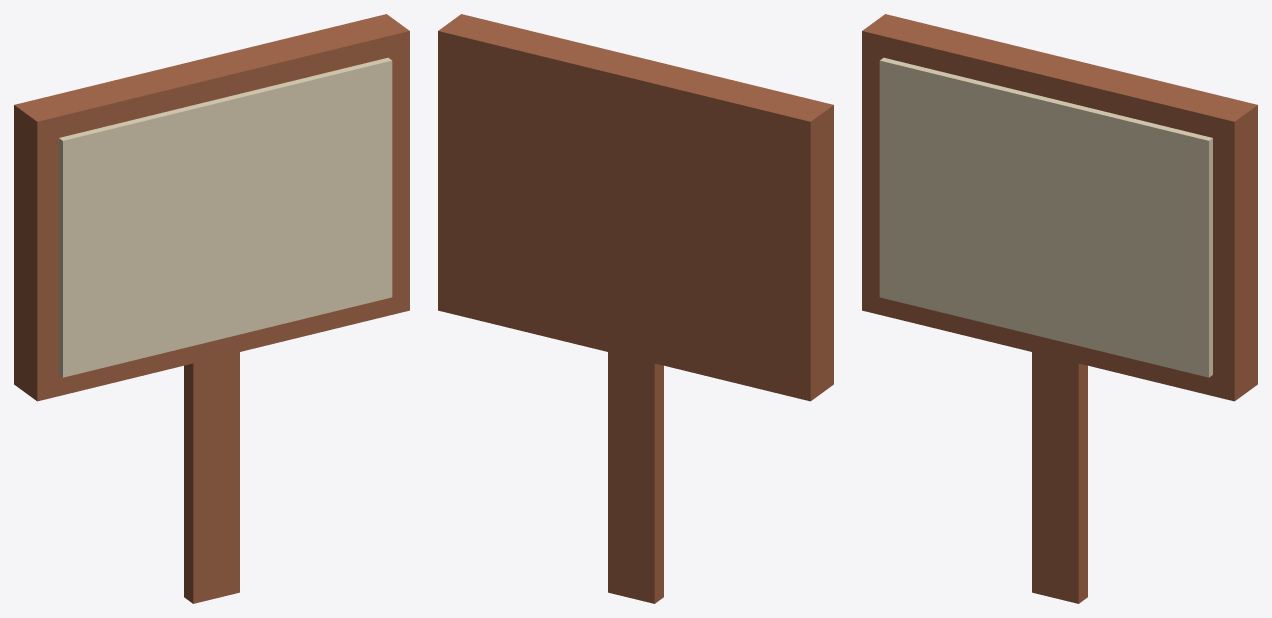
The model's file is Sign.glb.
The picture shows the model from 3 angles, left to right: view 1: azimuth 30°, elevation 25°; view 2: azimuth 150°, elevation 25°; view 3: azimuth 330°, elevation 25°; orthographic projection.
Visible parts, largest first — view 1: Cube.005; view 2: Cube.005; view 3: Cube.005.
Boxes of the visible parts, x1,y1,x2,y2 form: Cube.005: (14, 14, 409, 603); Cube.005: (438, 14, 833, 603); Cube.005: (862, 14, 1257, 603).
Size of the model in its own units: 0.8986 by 1.21 by 0.1136.
